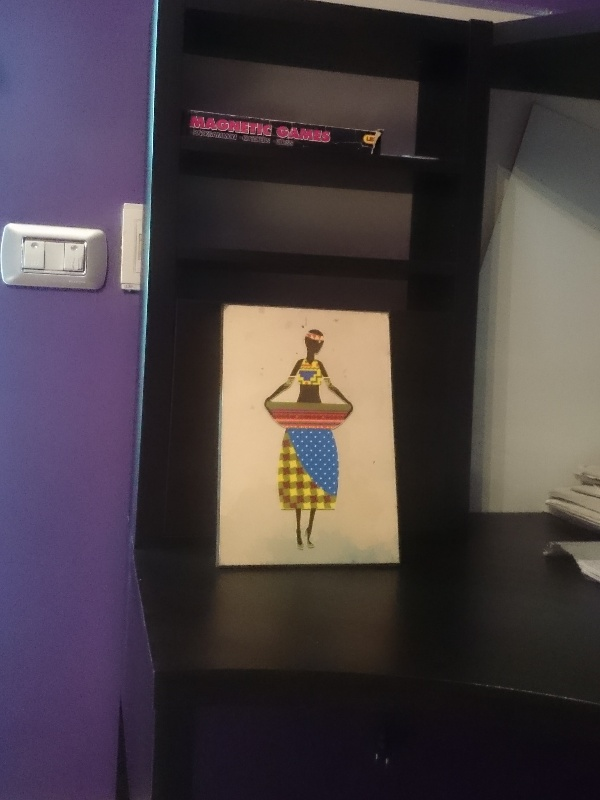my image: (219, 306, 395, 571)
